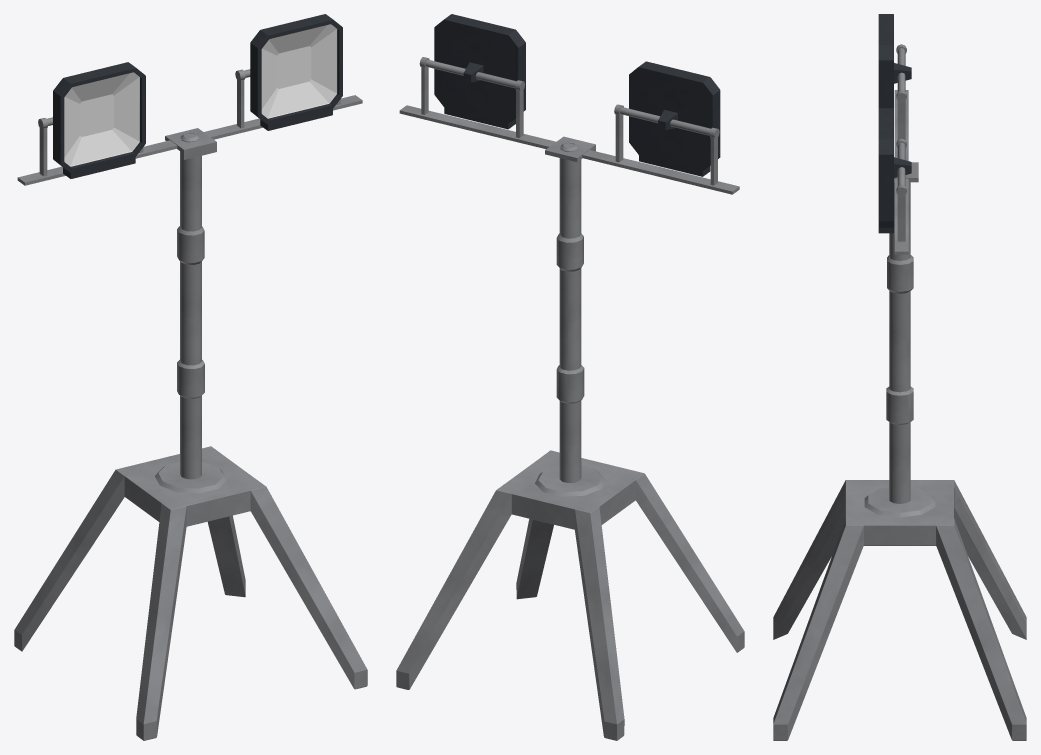
File: projecteur_sur_pied.glb
The picture shows the model from 3 angles, left to right: view 1: azimuth 30°, elevation 25°; view 2: azimuth 150°, elevation 25°; view 3: azimuth 270°, elevation 25°; orthographic projection.
Parts seen in each view (by area): view 1: Work_Light_2; view 2: Work_Light_2; view 3: Work_Light_2.
Boxes of the visible parts, x1=… form: Work_Light_2: x1=14, y1=14, x2=367, y2=740; Work_Light_2: x1=396, y1=14, x2=744, y2=740; Work_Light_2: x1=773, y1=14, x2=1026, y2=740.
Size of the model in its own units: 0.5669 by 1 by 0.3761.
Materials: 2 (1 with a texture image).
